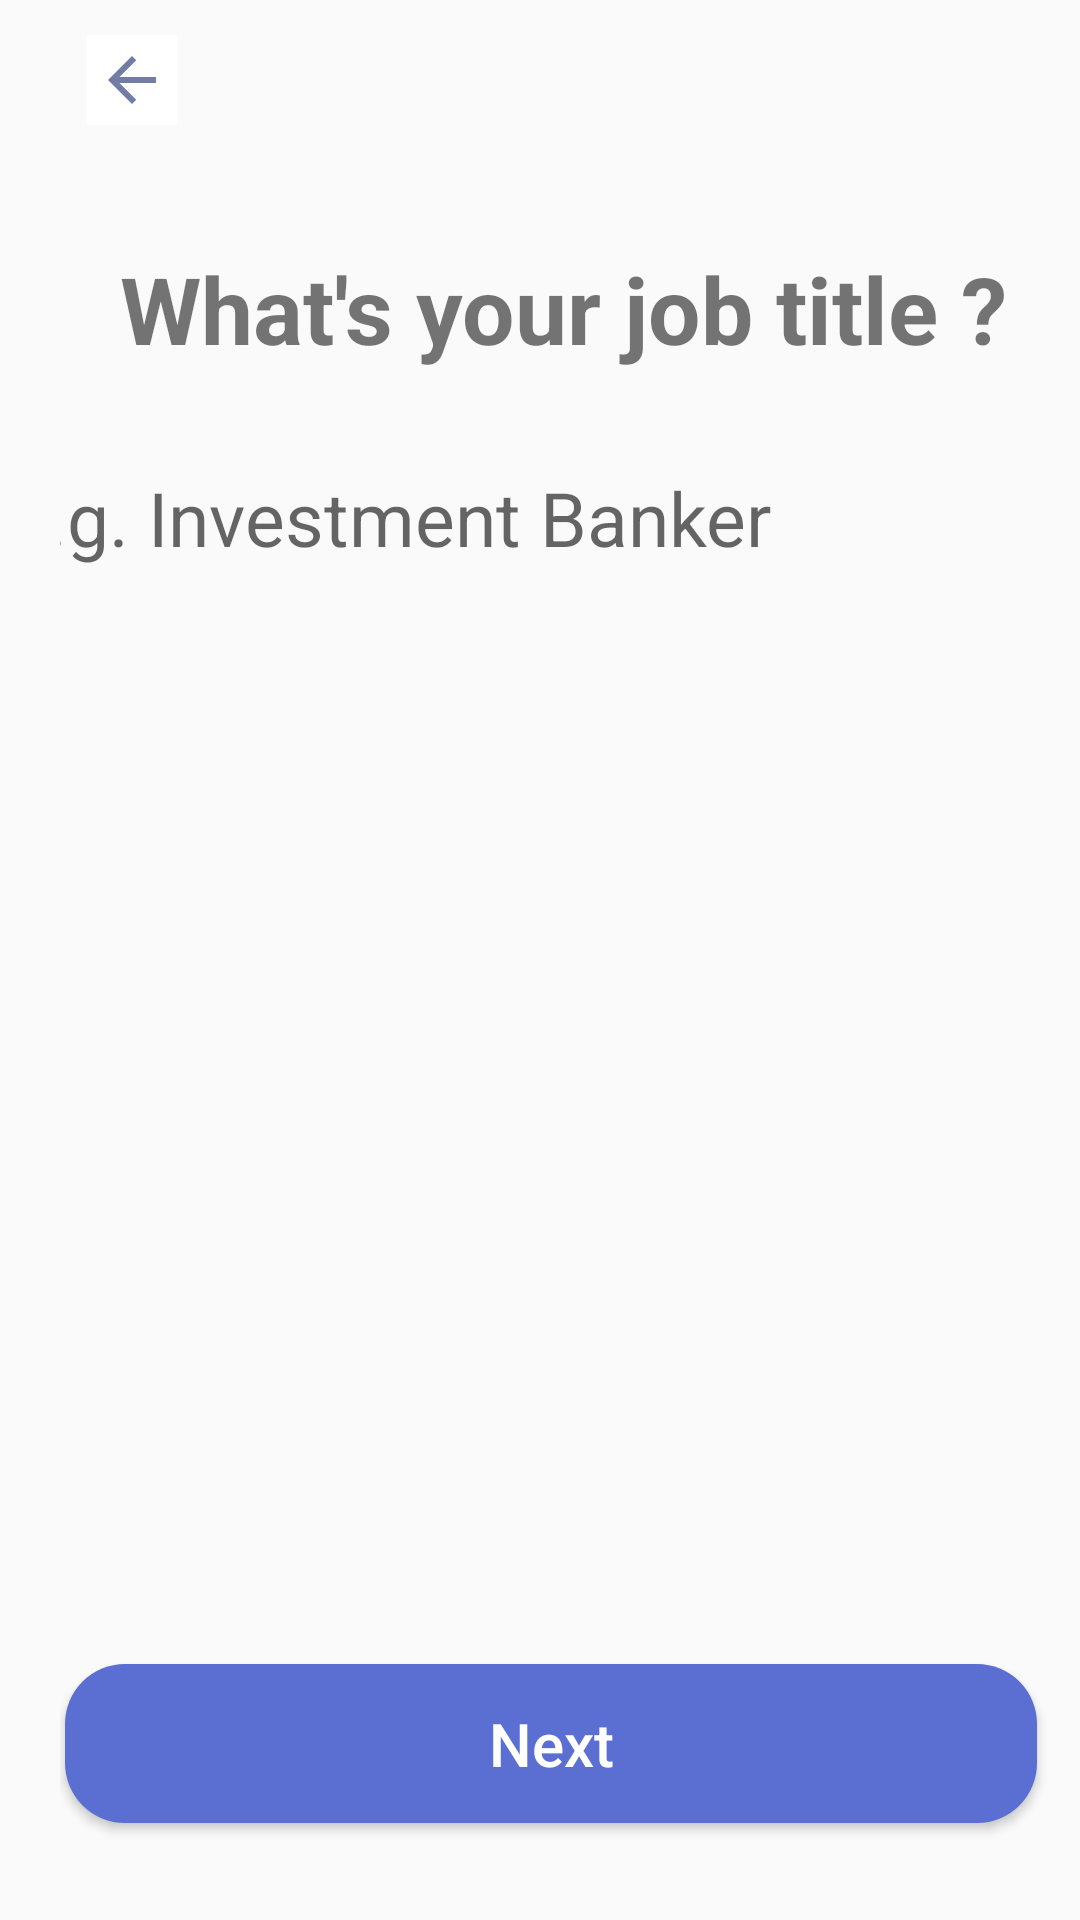

Icon click points for this 1080w x 1920h phone screenshot, format (x,y):
arrow back: (132,80)
